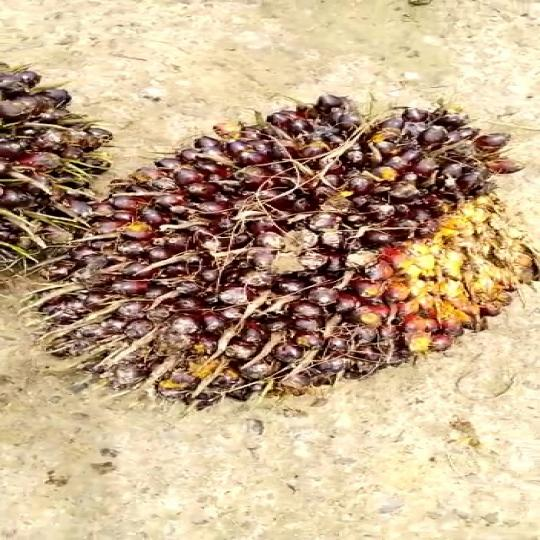kurang masak: (41, 107, 532, 406)
